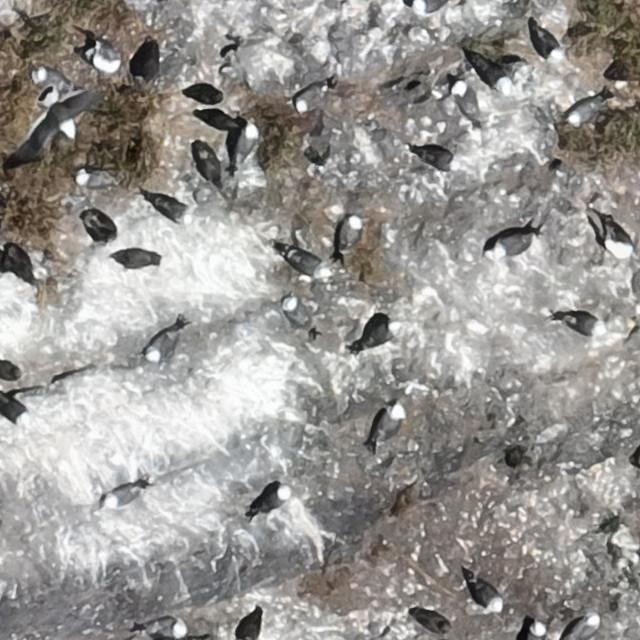F: (31, 92, 93, 148)
umineko: (244, 483, 292, 523), (595, 209, 632, 259), (284, 292, 316, 334), (286, 252, 332, 281), (561, 310, 606, 337), (473, 59, 509, 88), (472, 580, 502, 611), (364, 320, 399, 346), (376, 406, 402, 439), (493, 232, 530, 255), (153, 198, 190, 221), (416, 148, 456, 169), (147, 330, 175, 360), (537, 30, 562, 61), (0, 397, 29, 422), (568, 616, 598, 640), (107, 487, 140, 508), (296, 86, 323, 111), (340, 217, 361, 249), (569, 100, 598, 123), (115, 251, 154, 268), (237, 125, 256, 158), (149, 619, 183, 637), (94, 46, 118, 70), (79, 172, 108, 188), (412, 0, 445, 13), (528, 622, 547, 638)
